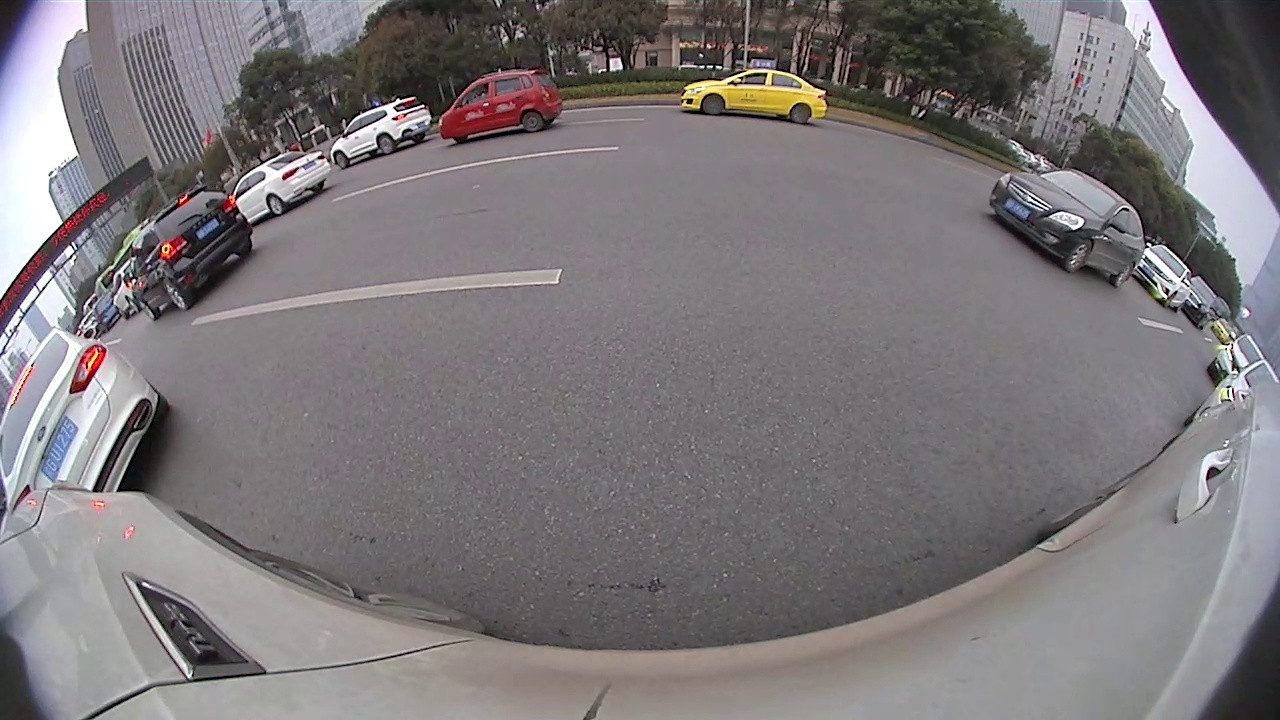car: (1, 321, 172, 503), (987, 163, 1146, 290), (129, 184, 256, 319), (439, 64, 566, 149), (675, 66, 829, 125), (328, 93, 435, 174), (233, 147, 330, 222), (1128, 242, 1193, 313)
front: (1063, 238, 1092, 275), (702, 94, 725, 117), (335, 153, 350, 169)
rear: (163, 276, 190, 313), (1114, 261, 1134, 289), (522, 111, 544, 134), (266, 193, 285, 217), (788, 103, 810, 123), (378, 135, 396, 157)
